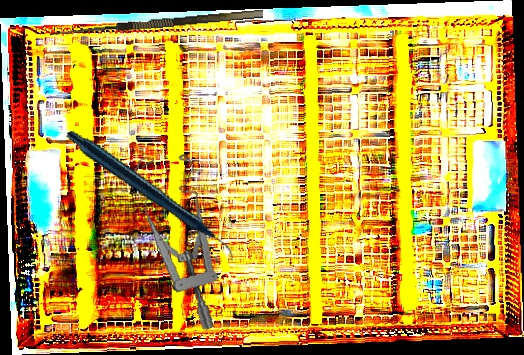Handpiece: (65, 95, 235, 299)
Hook Surgical: (49, 9, 265, 49)
Speculum: (113, 148, 237, 332)
